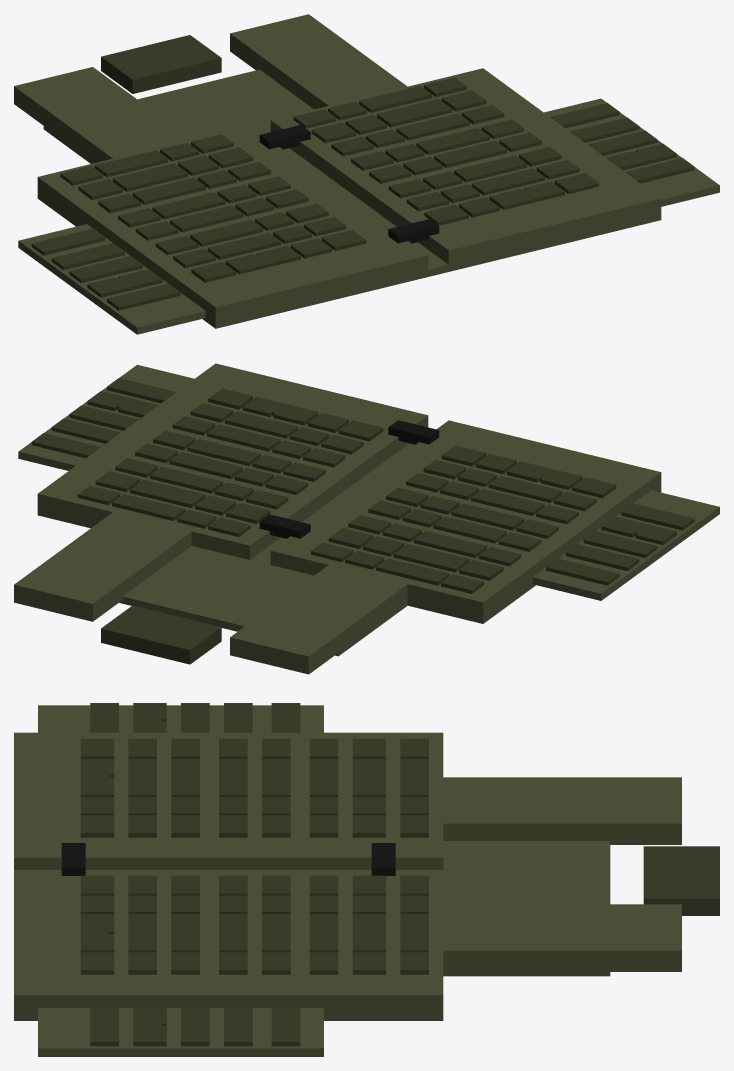
Rendered from heavy_load_bearing_vest.glb.
3 renders of one model, top to bottom at view 1: azimuth 30°, elevation 25°; view 2: azimuth 150°, elevation 25°; view 3: azimuth 270°, elevation 25°, orthographic. The views are drawn at different scales.
Parts seen in each view (by area): view 1: heavy_load_bearing_vest:compound; view 2: heavy_load_bearing_vest:compound; view 3: heavy_load_bearing_vest:compound.
Part boxes in pixels (bbox=[...]): heavy_load_bearing_vest:compound: bbox=[14, 14, 719, 334]; heavy_load_bearing_vest:compound: bbox=[14, 363, 719, 674]; heavy_load_bearing_vest:compound: bbox=[14, 703, 719, 1056].
Bounding box in the file's own units: 0.68 × 0.032 × 0.592.
